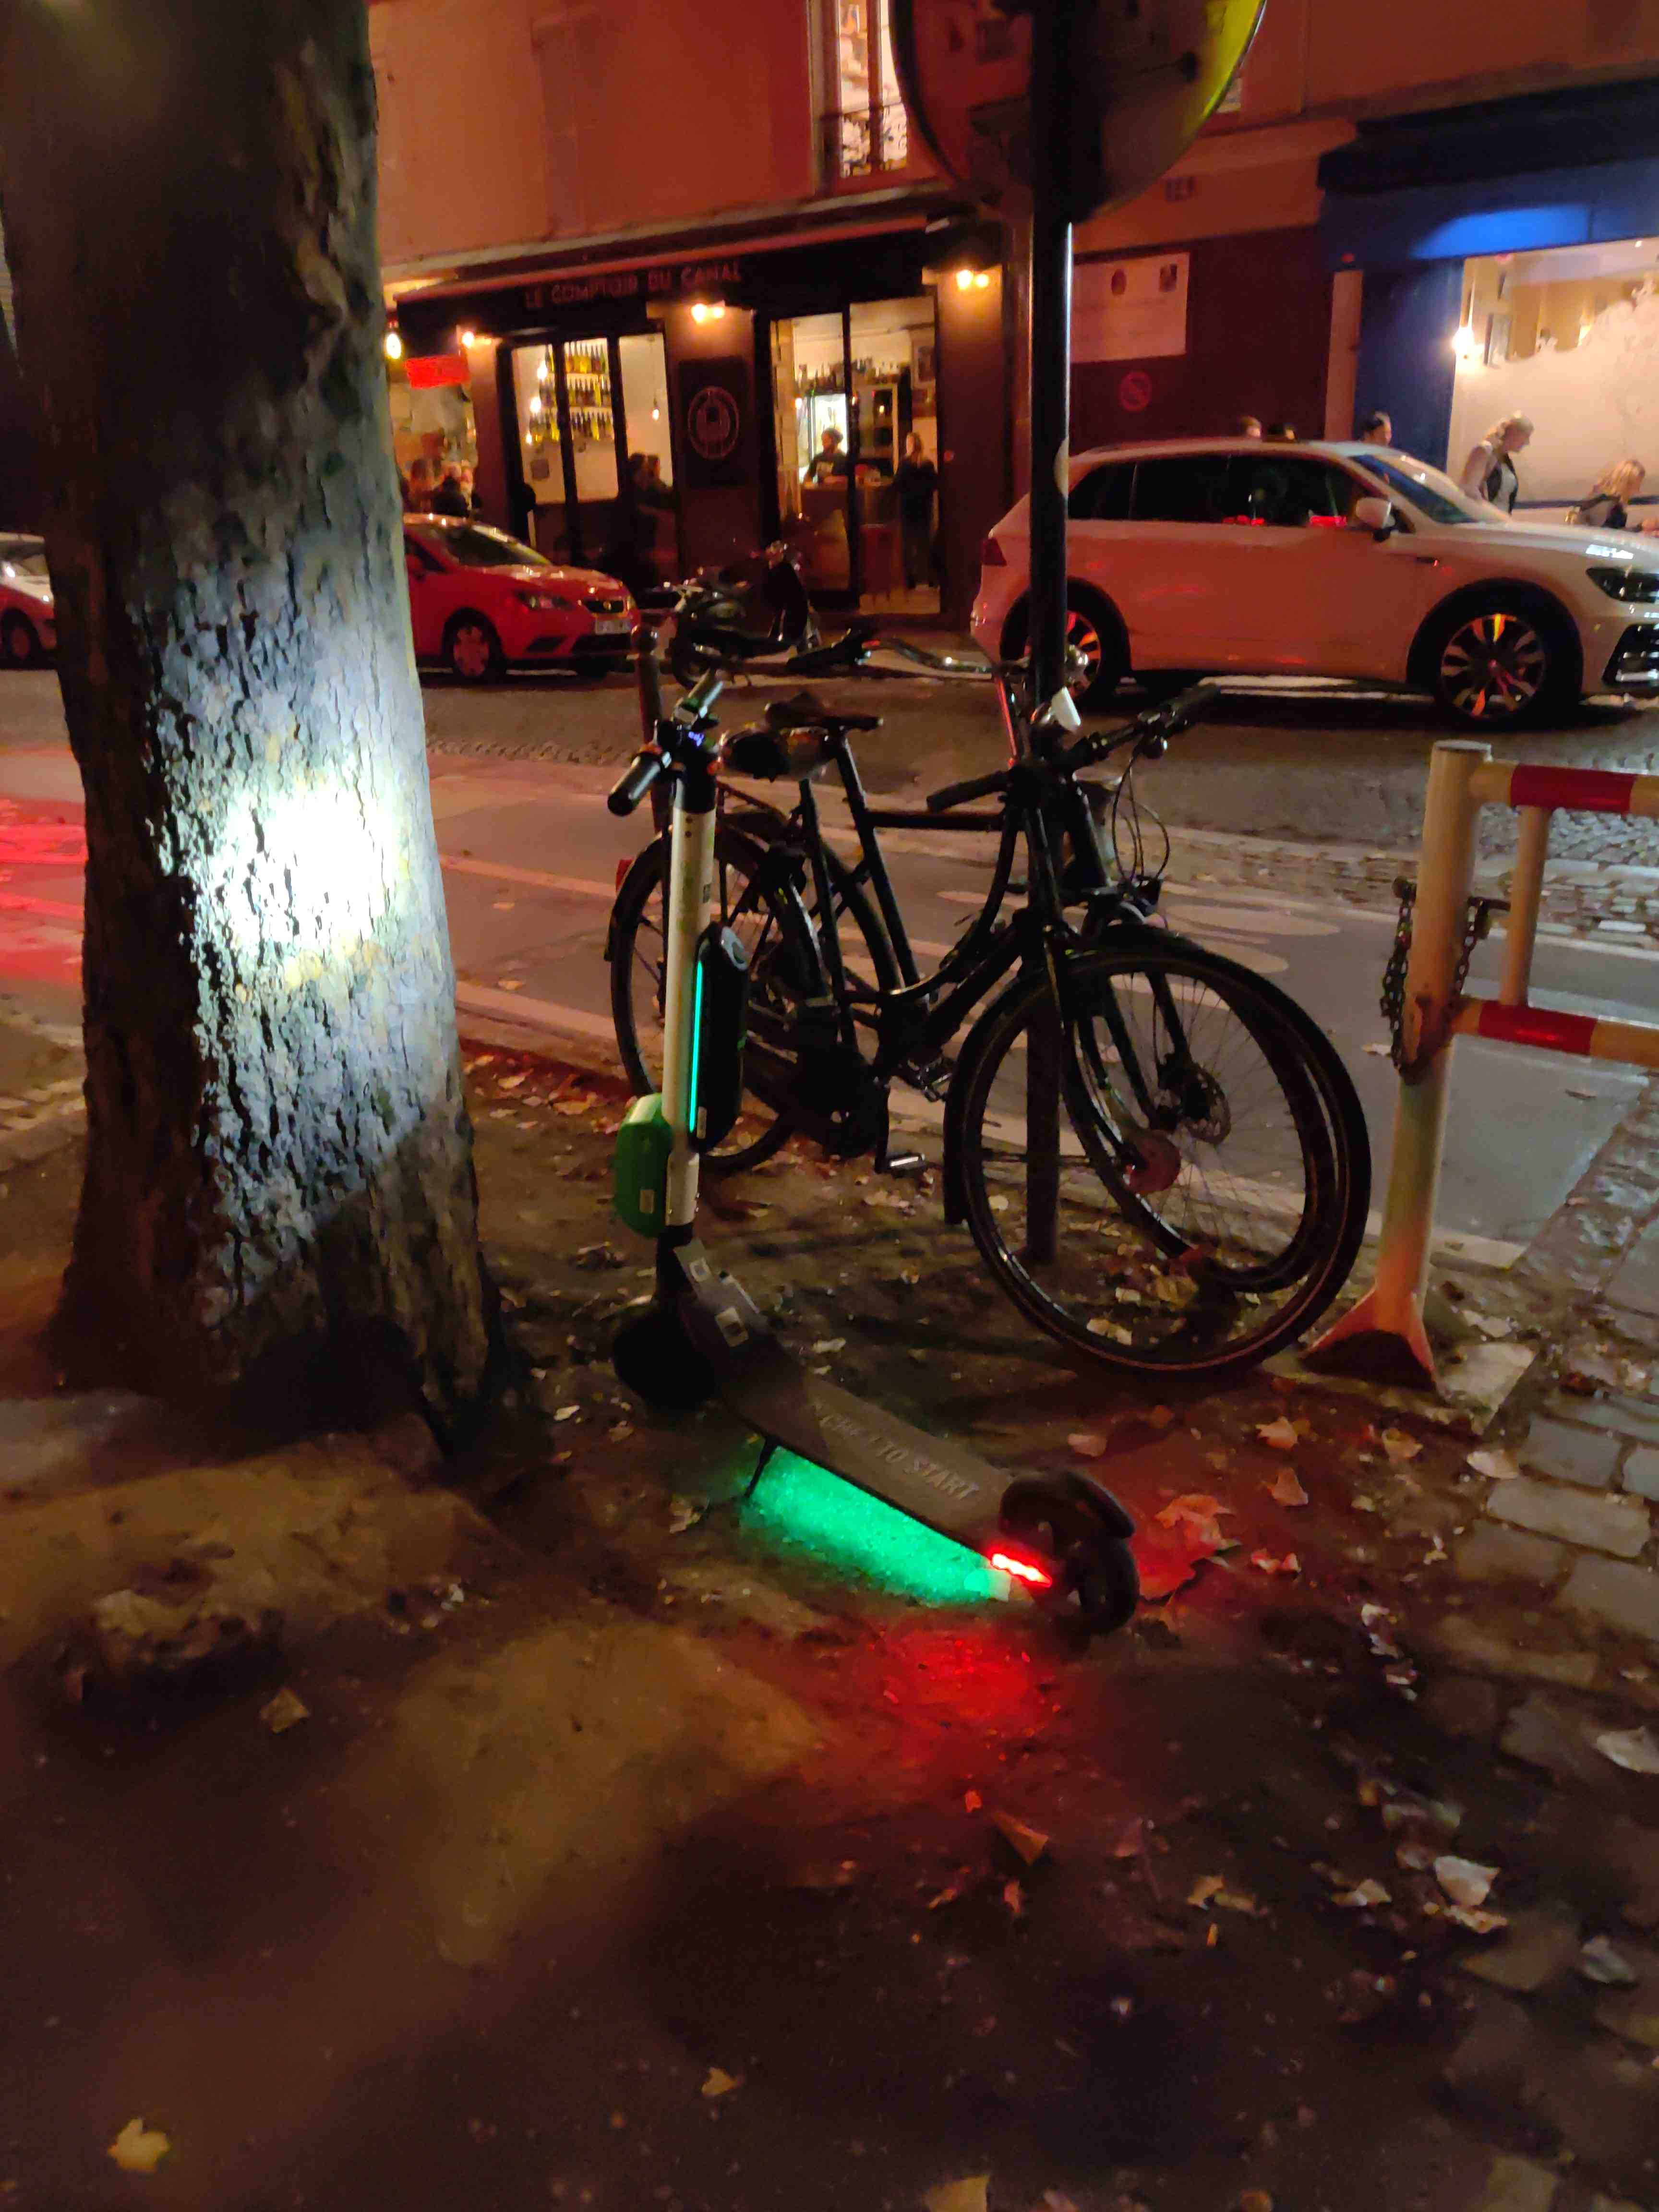scooter: (418, 383, 1199, 1684)
